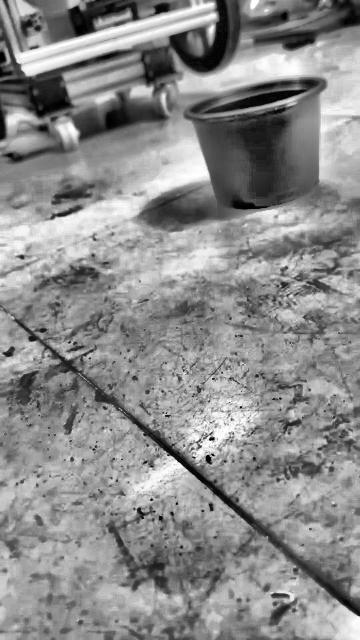pot: (185, 76, 327, 209)
